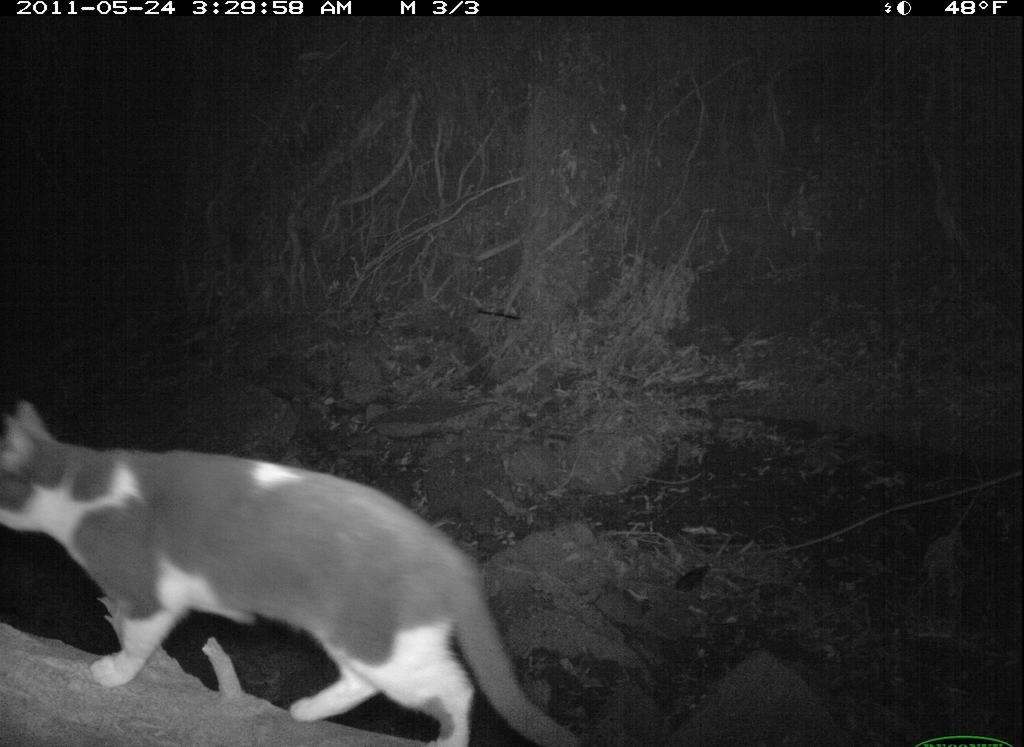cat: (9, 395, 606, 739)
